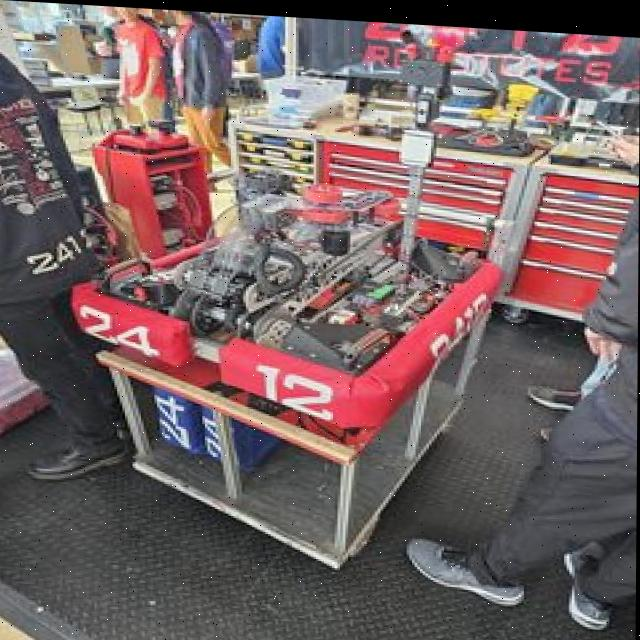robot: (68, 32, 527, 465)
